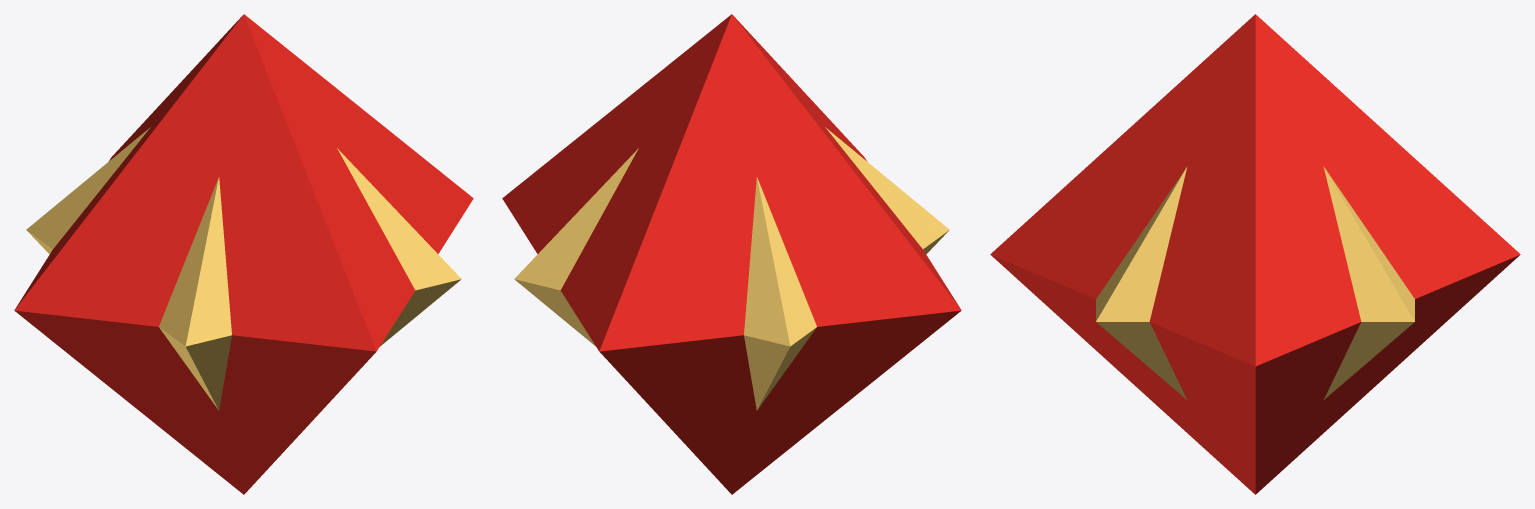
Rendered from rage_mote.glb.
The picture shows the model from 3 angles, left to right: view 1: azimuth 30°, elevation 25°; view 2: azimuth 150°, elevation 25°; view 3: azimuth 270°, elevation 25°; orthographic projection.
Visible parts, largest first — view 1: rage_mote; view 2: rage_mote; view 3: rage_mote.
Boxes of the visible parts, left/top/right/bottom form: rage_mote: left=14, top=14, right=473, bottom=494; rage_mote: left=502, top=14, right=961, bottom=494; rage_mote: left=990, top=14, right=1520, bottom=494.
Size of the model in its own units: 2 by 2 by 2.
Materials: 1 (1 with a texture image).
